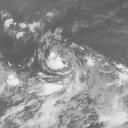cyclone: (41, 49, 70, 75)
